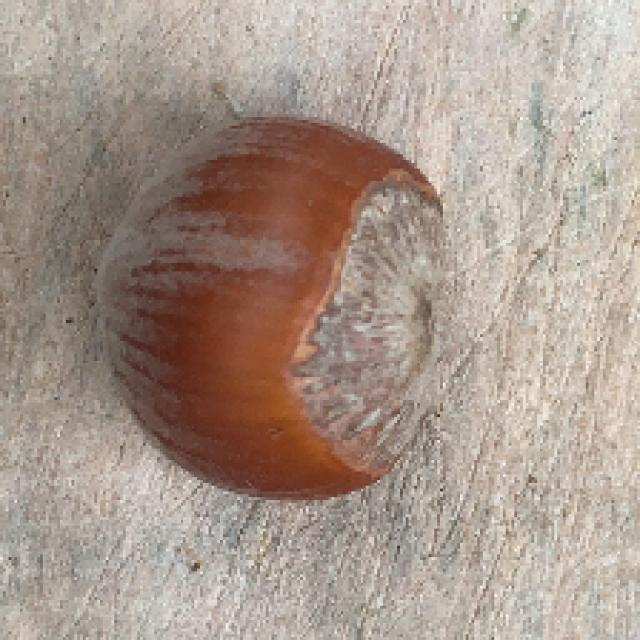QualityHazelnut: (90, 110, 459, 506)
